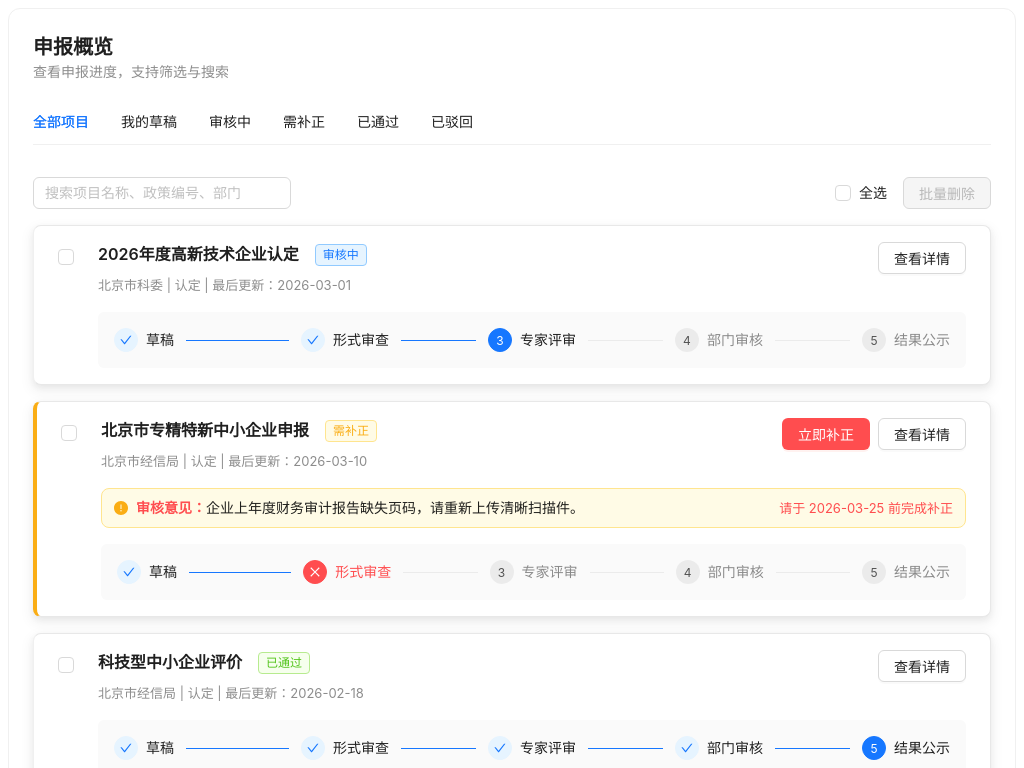
OptimizedMyApplications Component › filters by status
The width and height of the screenshot is (1024, 768).
Step 1. Click the tab "我的草稿" → point(149, 122), box [121,111,177,133]
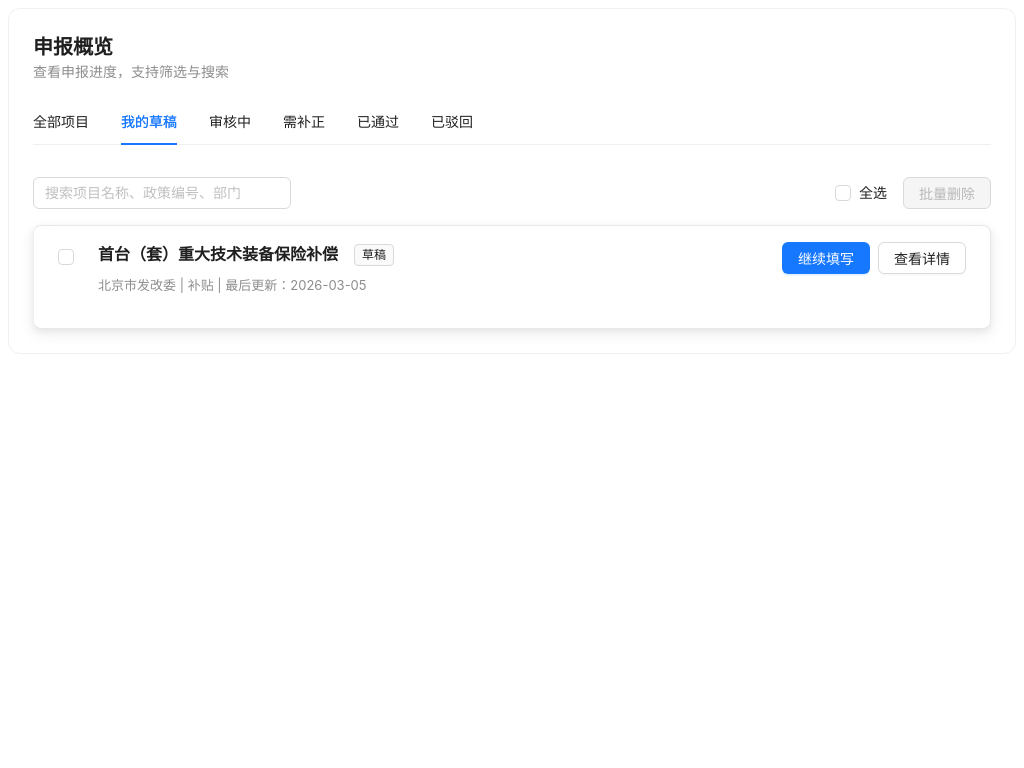
Expected: the heading "首台（套）重大技术装备保险补偿" is shown, [98,242,338,266]
Result: the heading "科技型中小企业评价" is gone
